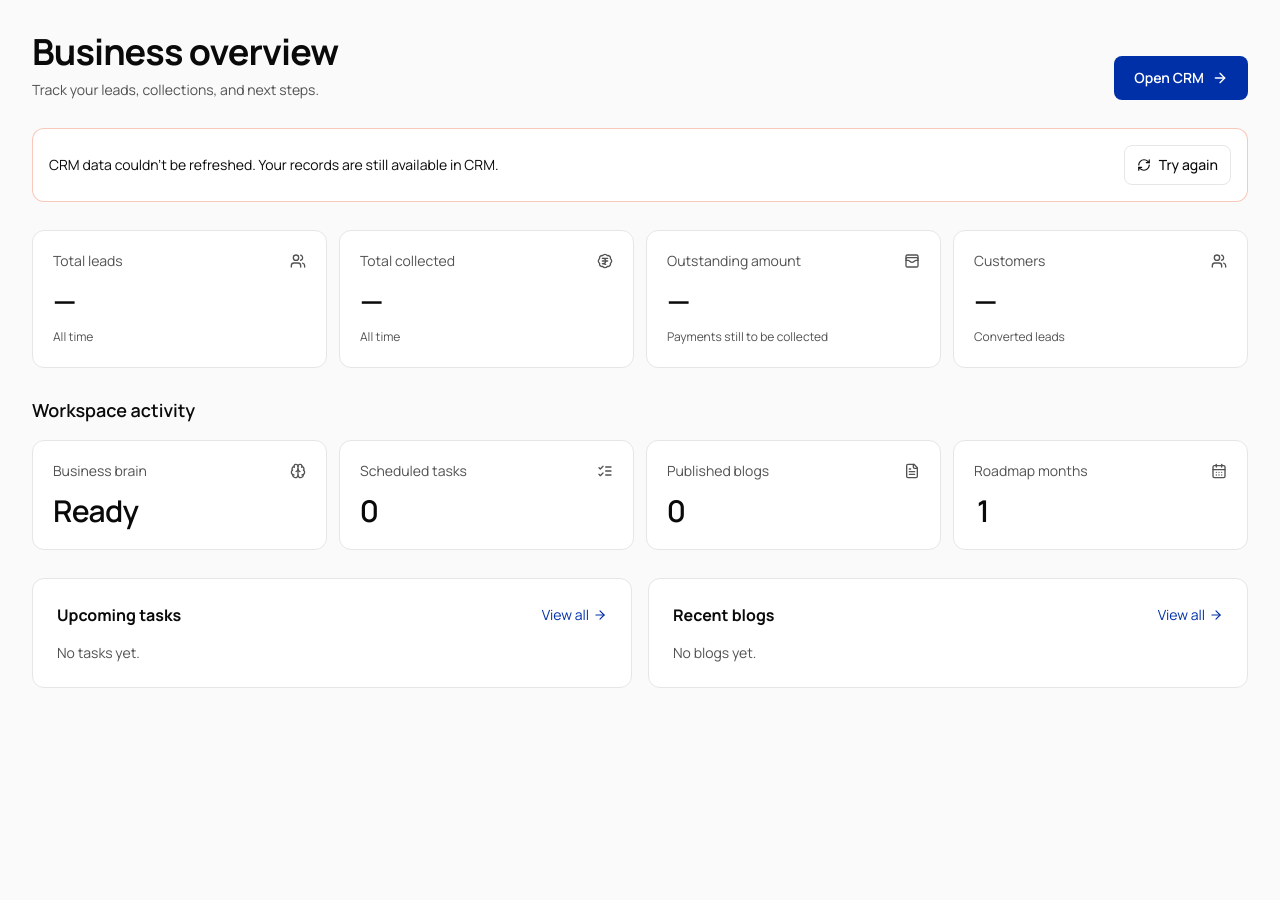
Scenario: failed analytics hide zero totals and recover on retry
The width and height of the screenshot is (1280, 900).
expect the message shows "couldn’t be refreshed": met, box [49,155,498,174]
expect the element with test id "stat-crm-total-leads" shows "—": met, box [53,280,76,321]
Click the button "Try again".
click(1177, 165)  # box [1124,145,1231,185]
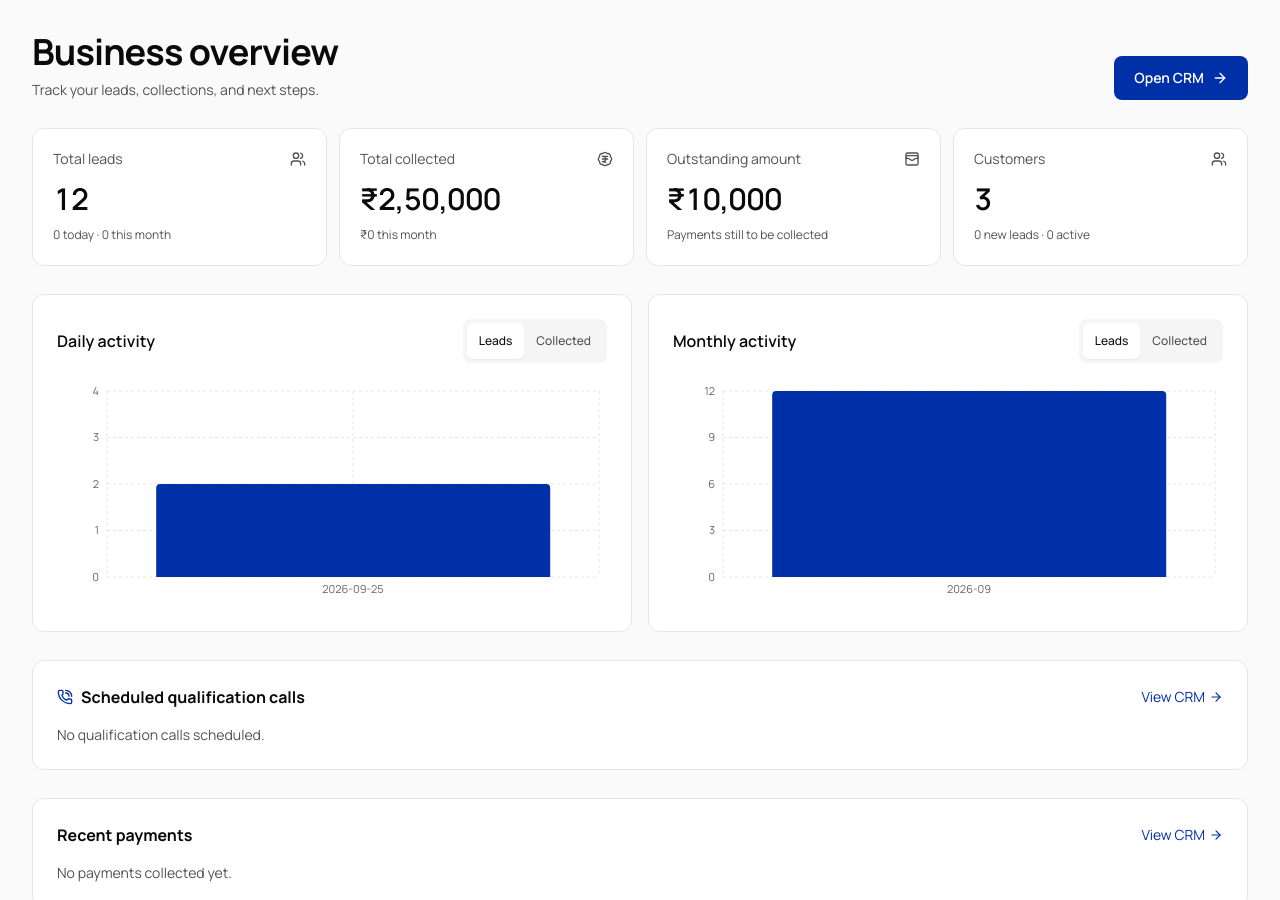
expect the message is gone: met
expect the element with test id "stat-crm-total-leads" shows "12": met, box [53,178,89,219]
